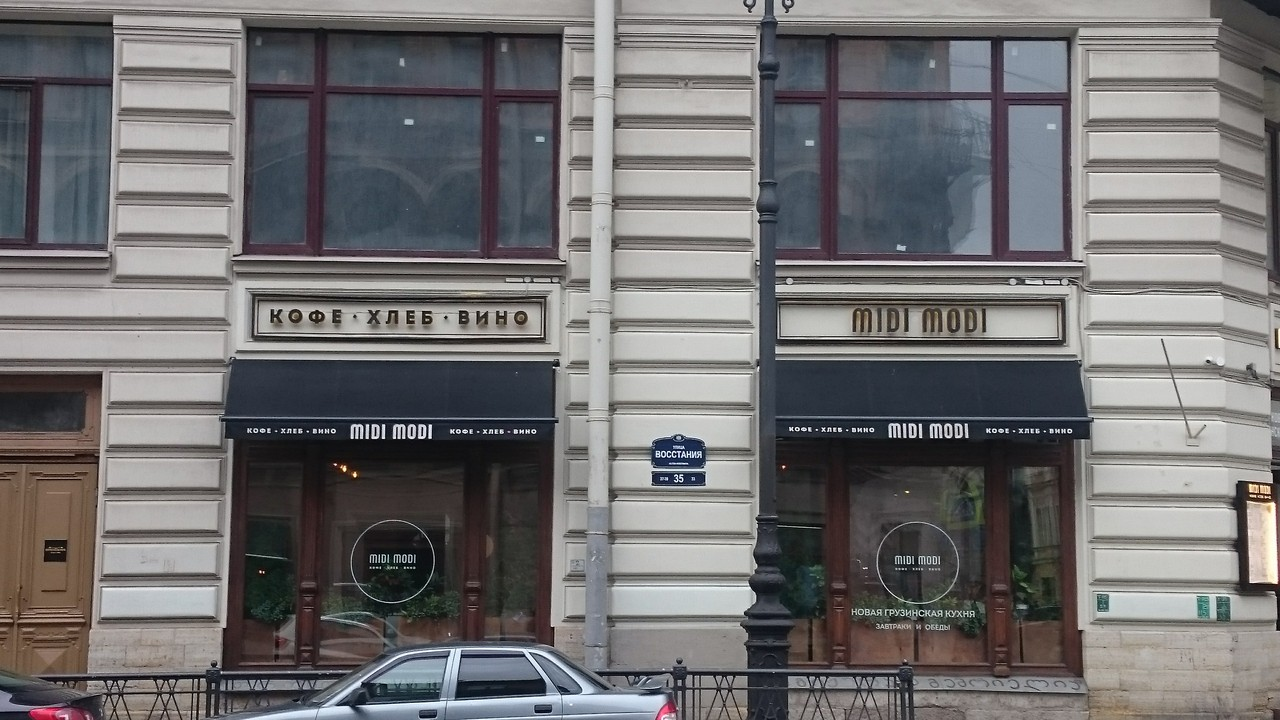signboard: (246, 287, 544, 342), (778, 300, 1064, 345)
window: (220, 441, 552, 671), (777, 438, 1081, 679), (241, 33, 563, 252), (764, 37, 1072, 259), (1, 17, 112, 252)
